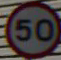Speed limit: (2, 0, 57, 53)
